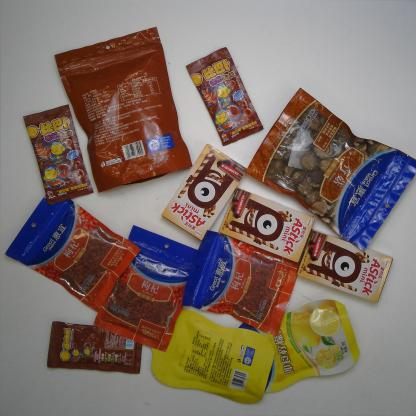Candy: (40, 307, 149, 389), (180, 48, 266, 146), (22, 102, 98, 206)
Dessert: (162, 132, 244, 241), (220, 182, 315, 266), (294, 227, 396, 302)
Dried Food: (248, 86, 410, 249), (51, 27, 199, 187)
Dried Fruit: (5, 192, 136, 304), (185, 212, 304, 335), (143, 294, 273, 406), (236, 296, 376, 399), (94, 234, 195, 354)
